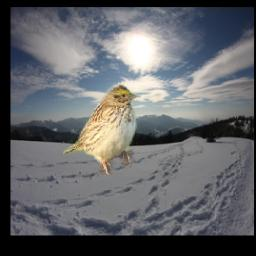Sparrow: (63, 82, 141, 175)
